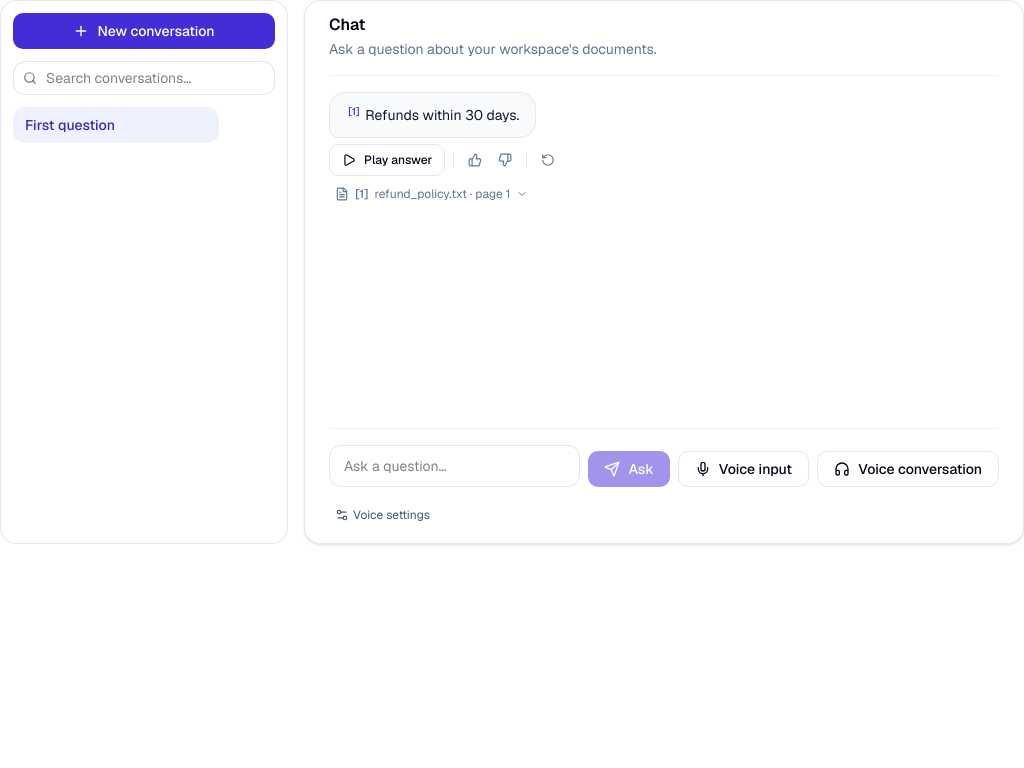
Test: ChatPage › fetches and reveals the cited chunk's source text on click
Click the button "[1] refund_policy.txt · page 1": (432, 194) top-left (329, 182), bottom-right (534, 206)
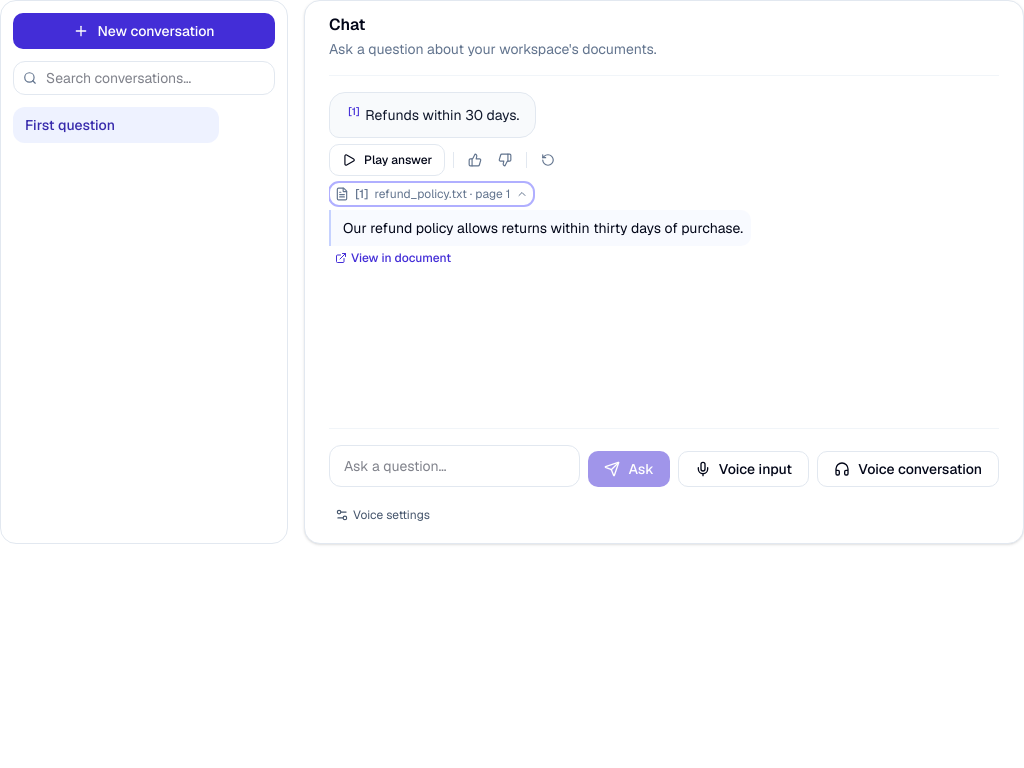
Result: the text "returns within thirty days" is shown at top-left (343, 219), bottom-right (743, 237)
Click the button "[1] refund_policy.txt · page 1": (432, 194) top-left (329, 182), bottom-right (534, 206)
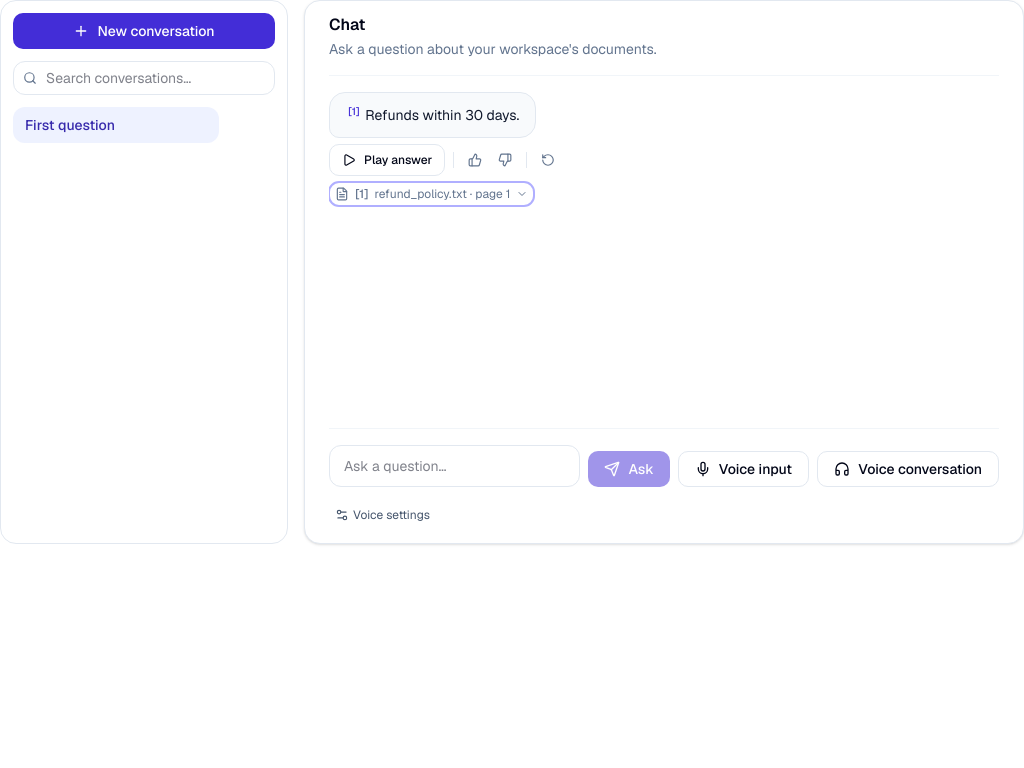
Result: the text "returns within thirty days" is gone
